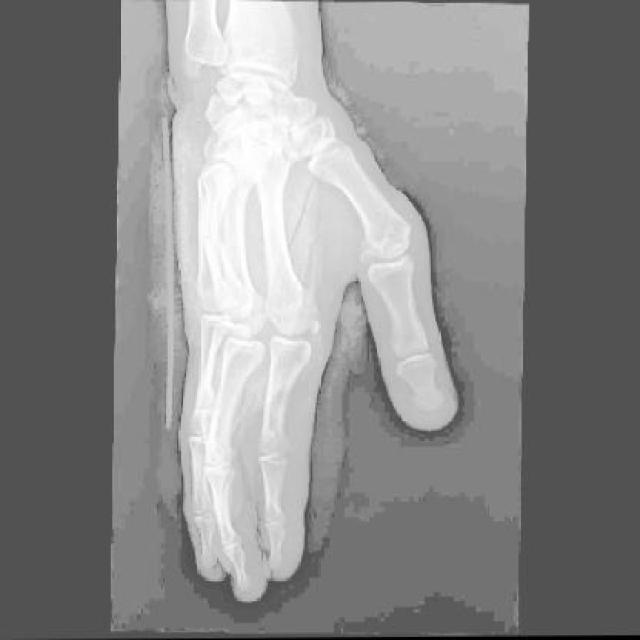Fracture: (194, 225, 231, 258)
